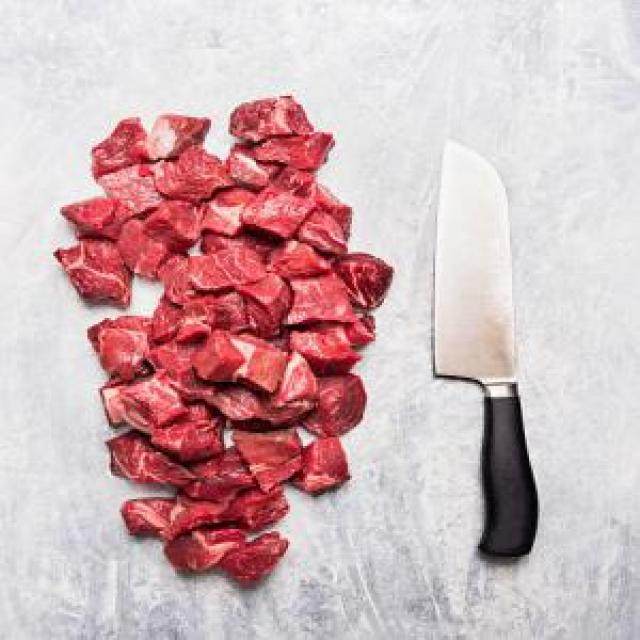knife: (397, 115, 542, 576)
